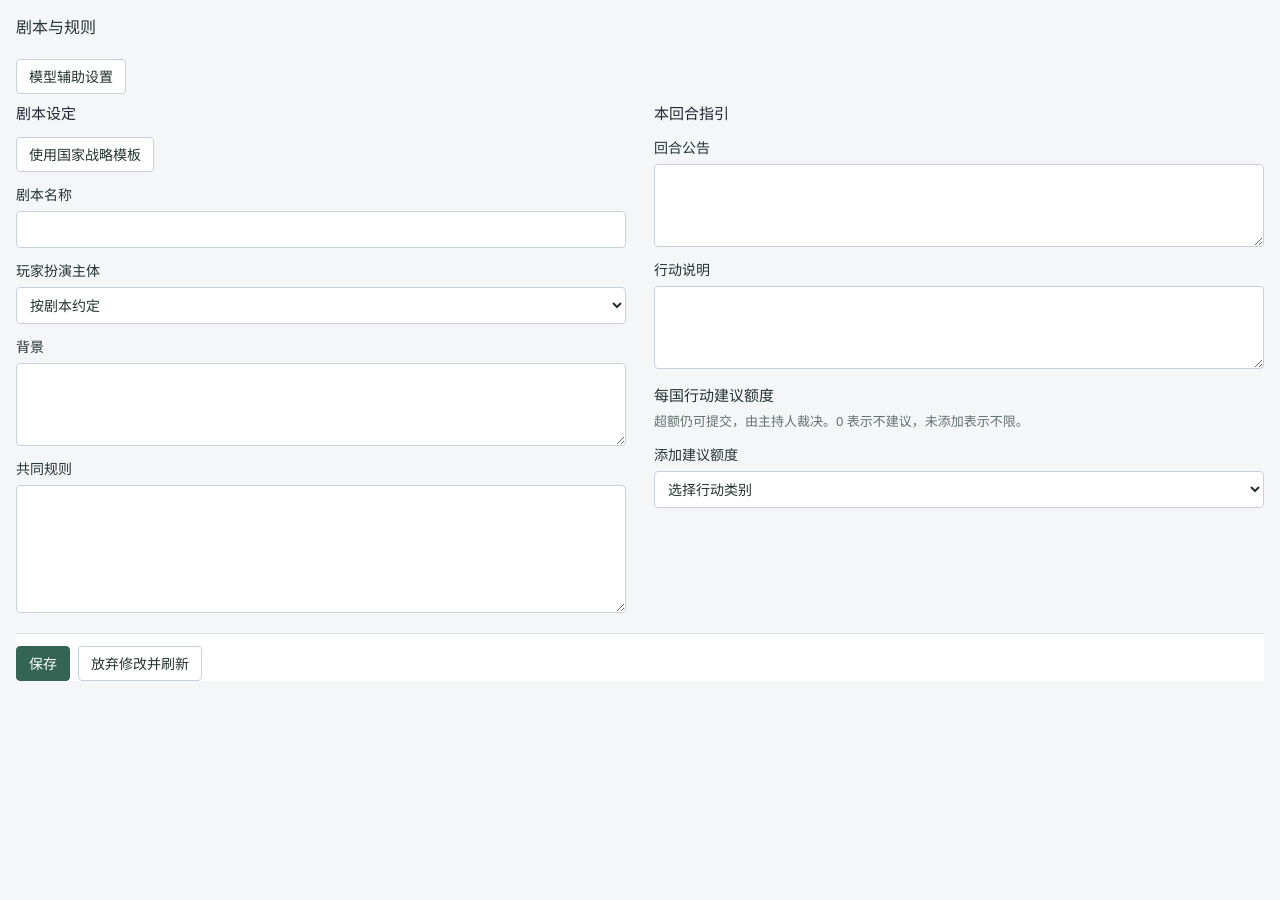
it: scenario and round rules › preserves unsaved writing after a conflict and lets the host explicitly reload
Type "保留我的修改" into the field labelled "剧本名称" at (321, 229), box [16,211,626,248]
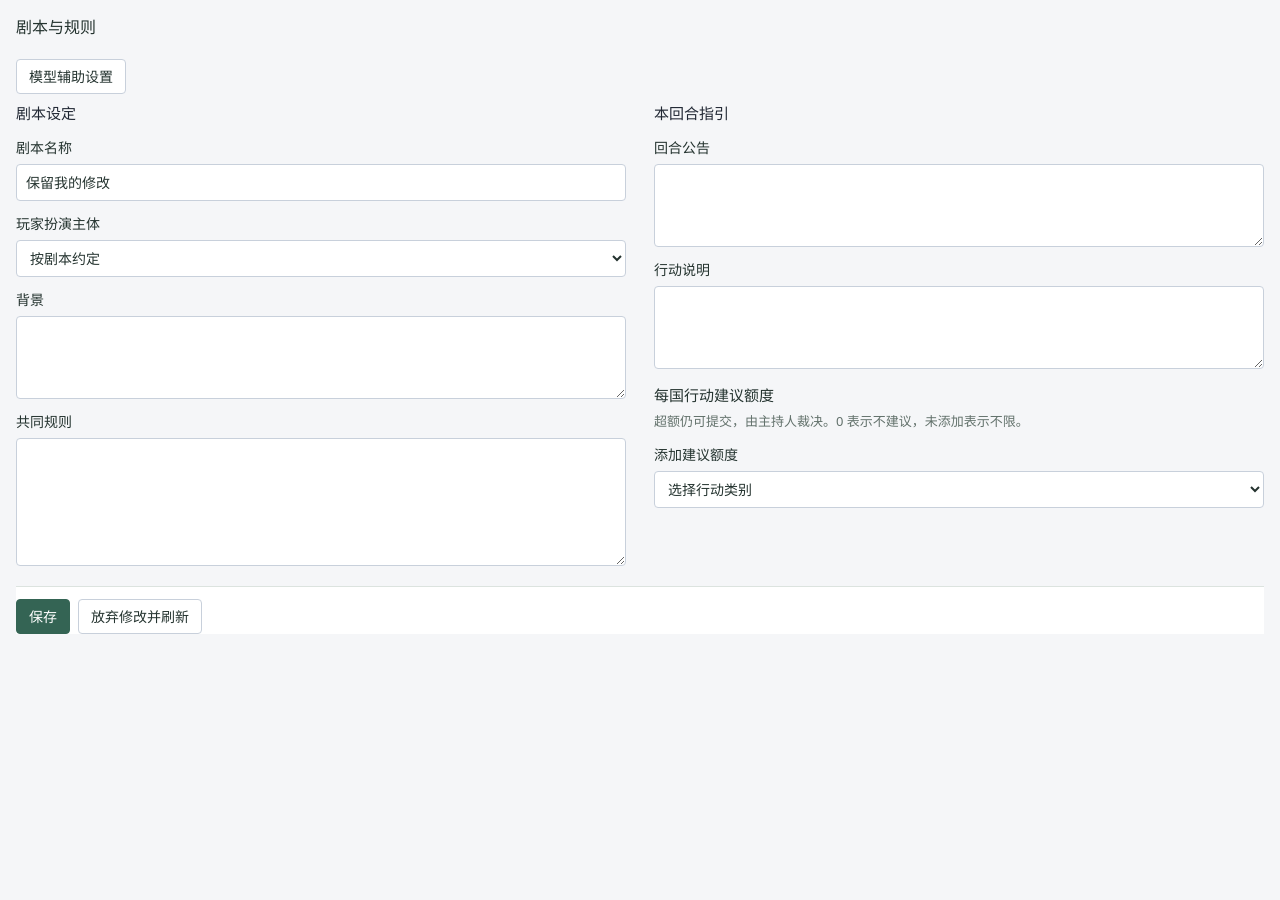
Click the button "保存" at (43, 616), box [16,599,70,634]
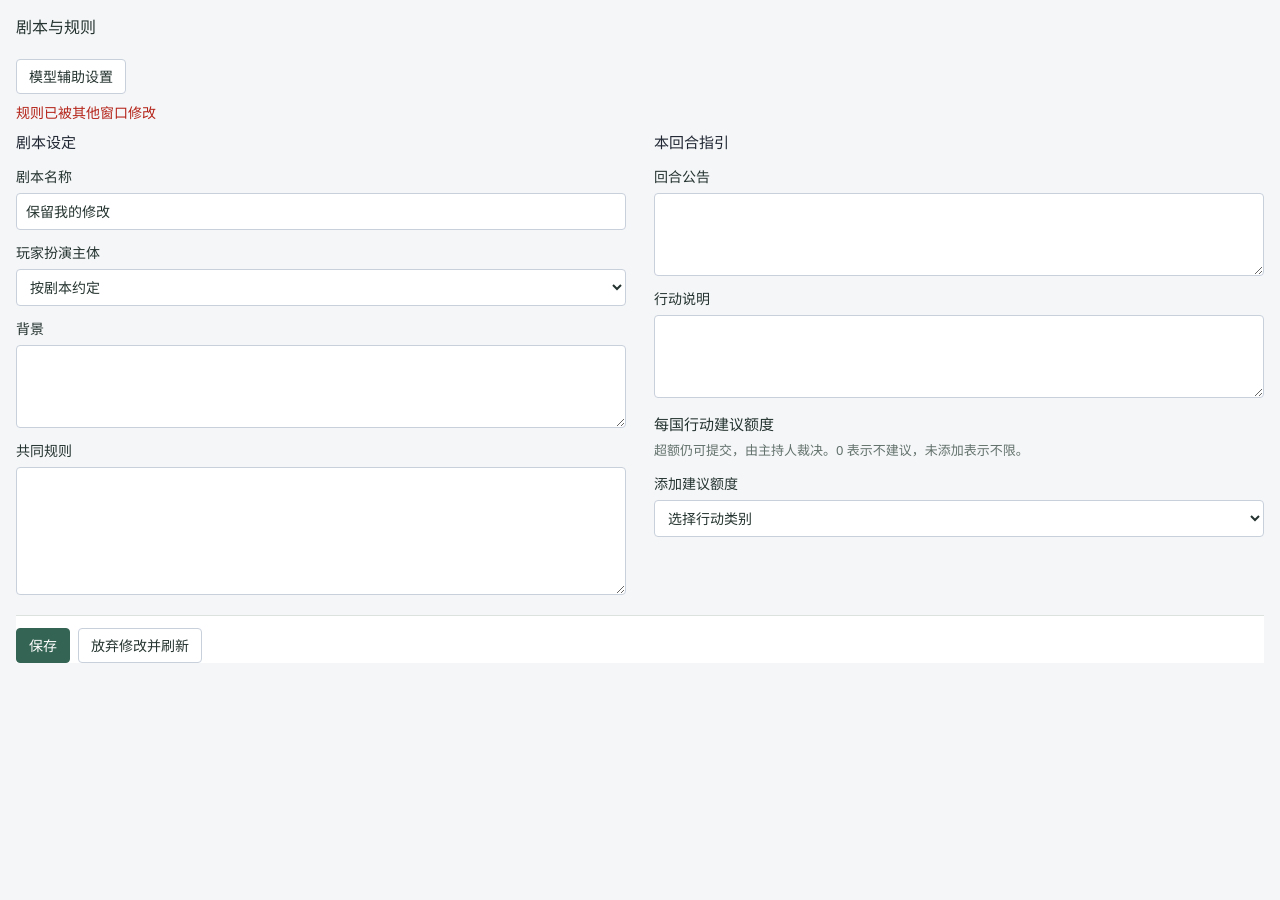
Check: the message reads "规则已被其他窗口修改", box [16,103,156,122]
Click the button "放弃修改并刷新" at (140, 645), box [78,628,202,663]
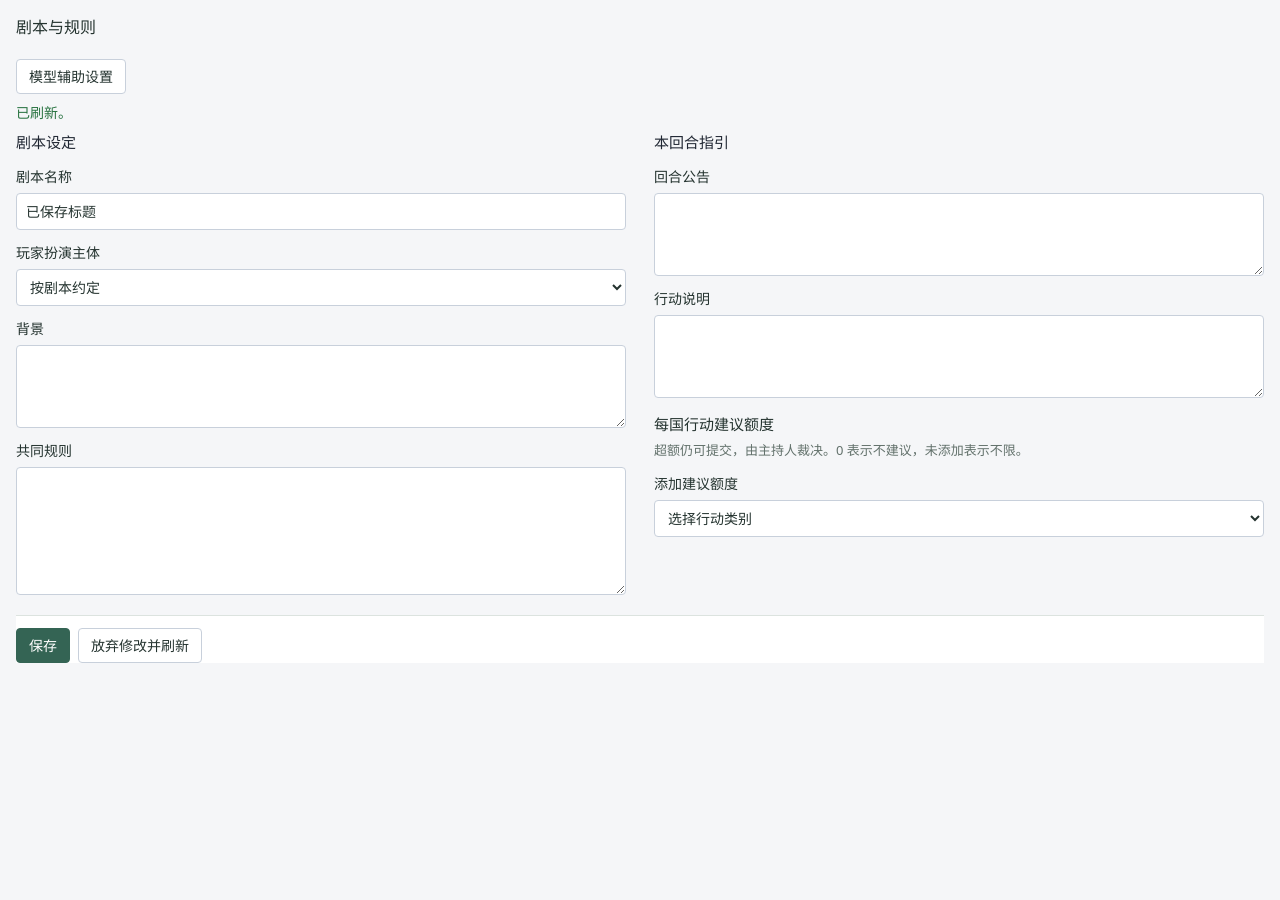
Check: the field labelled "剧本名称" holds "已保存标题", box [16,193,626,230]
